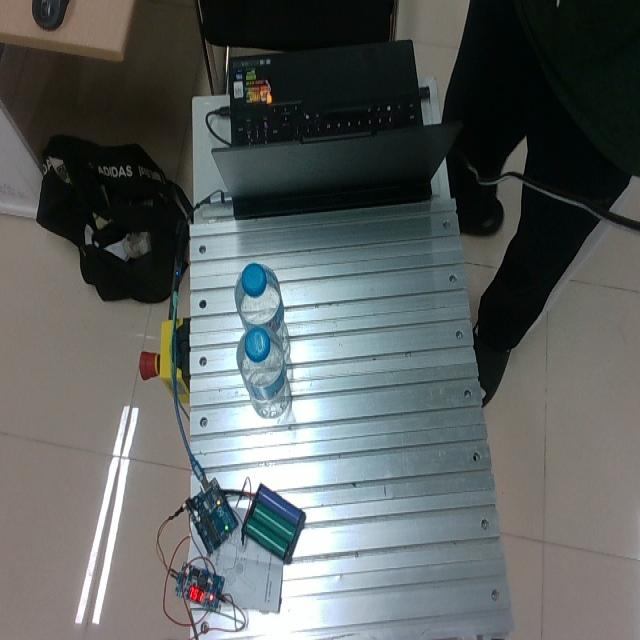lavie: (235, 261, 290, 363), (237, 322, 291, 418)
